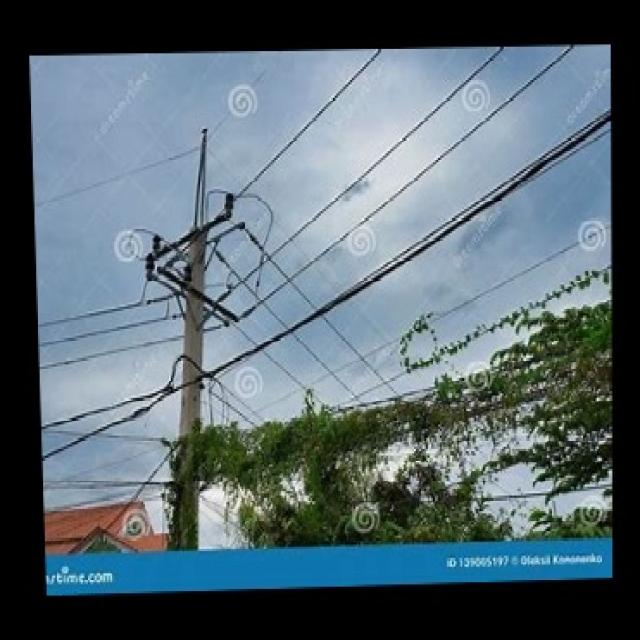critical vegetation: (172, 368, 608, 506)
